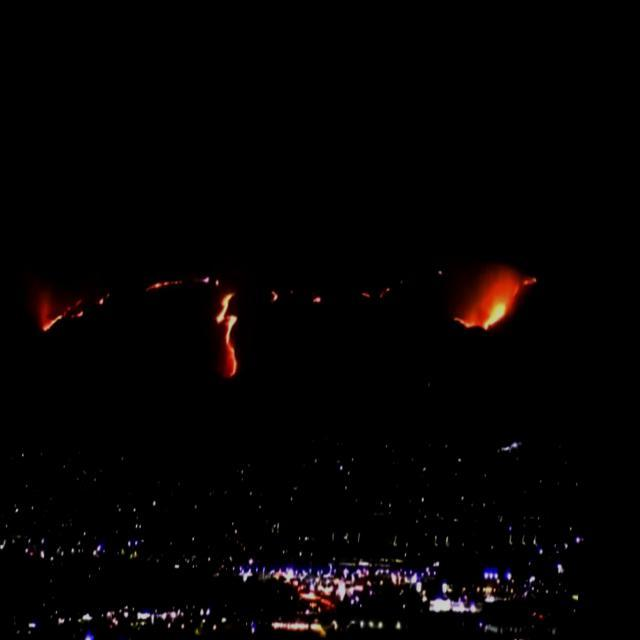Fire: (458, 260, 544, 324), (214, 286, 254, 378), (47, 292, 93, 334), (148, 274, 188, 293), (103, 284, 120, 304), (317, 288, 329, 300), (277, 286, 286, 298)
